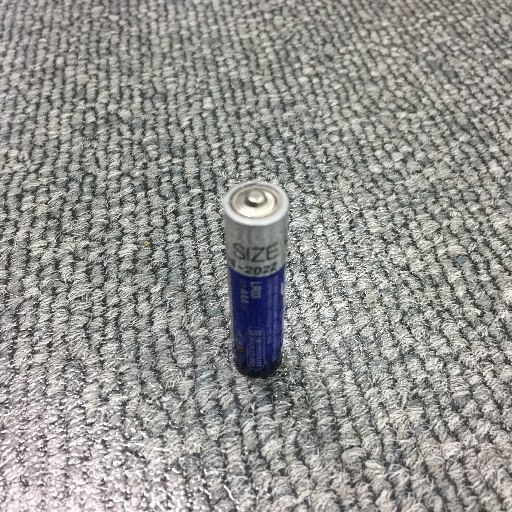Battery_0: (210, 169, 302, 387)
